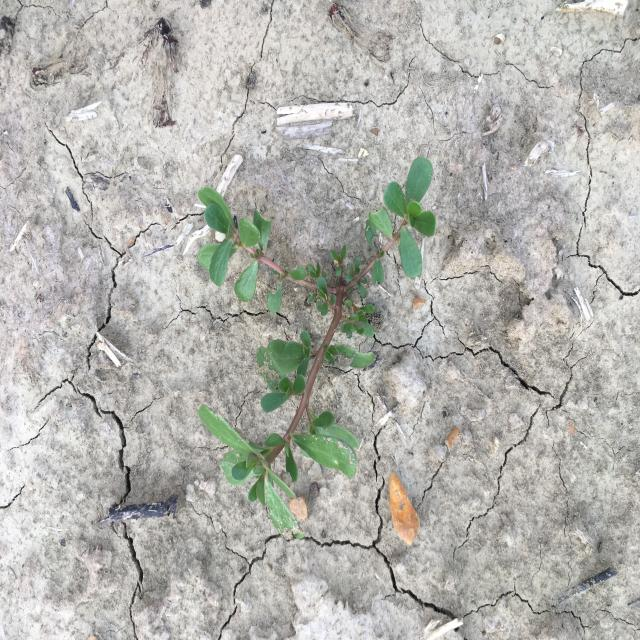Purslane: (197, 154, 438, 543)
